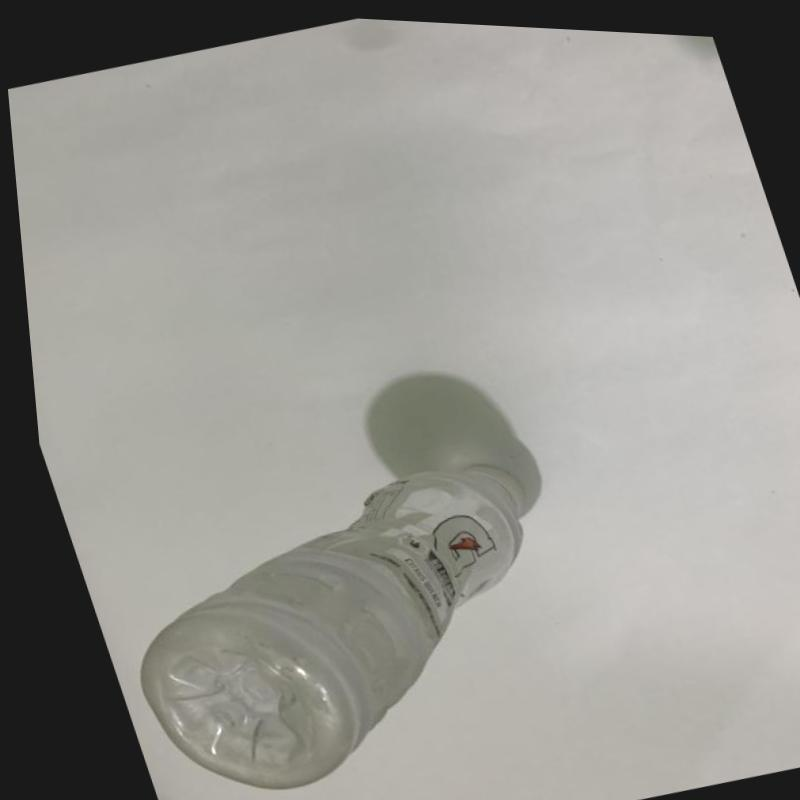botella: (73, 434, 586, 800)
